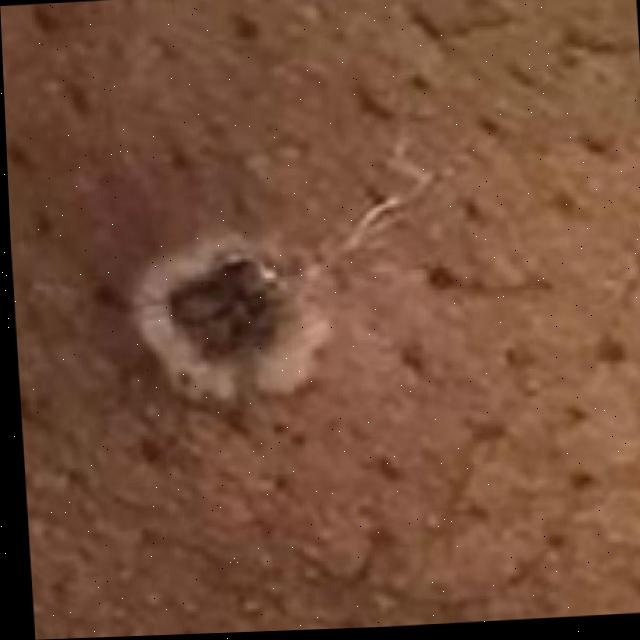Eczema: (133, 210, 312, 391)
